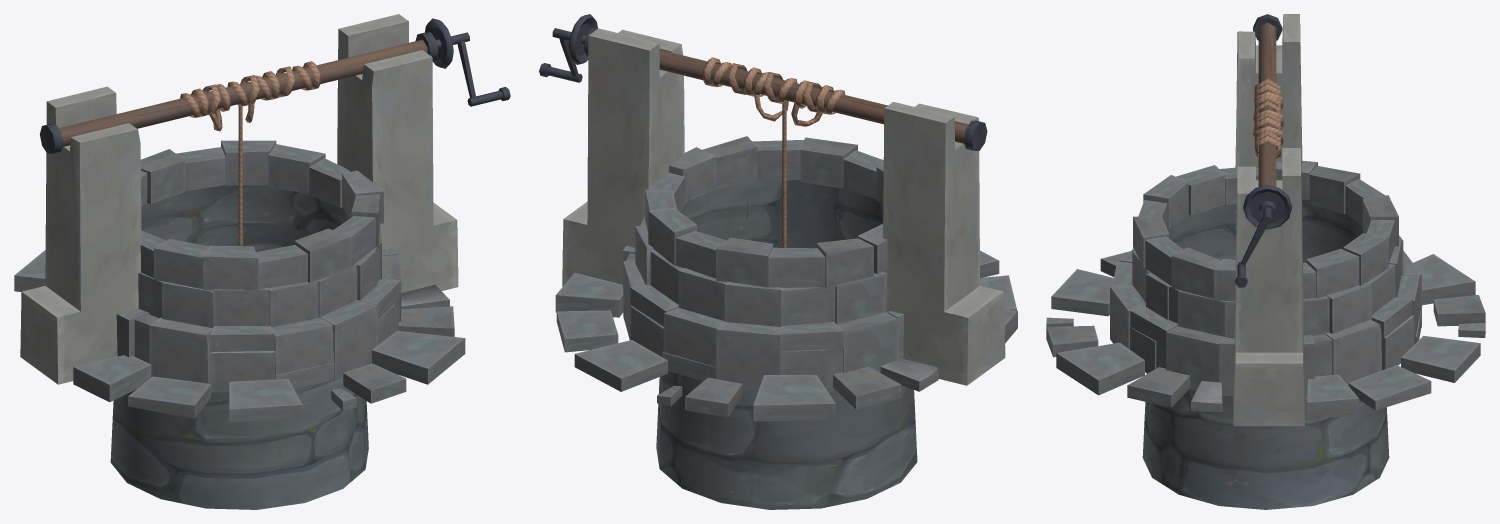
File: Homeworld_Exterior_Md_Decoration_Well_01_Vo.fbx
3 views of the same model, side by side, from view 1: azimuth 30°, elevation 25°; view 2: azimuth 150°, elevation 25°; view 3: azimuth 270°, elevation 25° (orthographic). The views are drawn at different scales.
Visible parts, largest first — view 1: Area_ManorProps_Well02_Vo; view 2: Area_ManorProps_Well02_Vo; view 3: Area_ManorProps_Well02_Vo.
Boxes of the visible parts, x1,y1,x2,y2 form: Area_ManorProps_Well02_Vo: [14, 14, 510, 509]; Area_ManorProps_Well02_Vo: [539, 14, 1017, 509]; Area_ManorProps_Well02_Vo: [1046, 14, 1485, 509].
Bounding box in the file's own units: 2.58 × 2.1 × 2.29.
